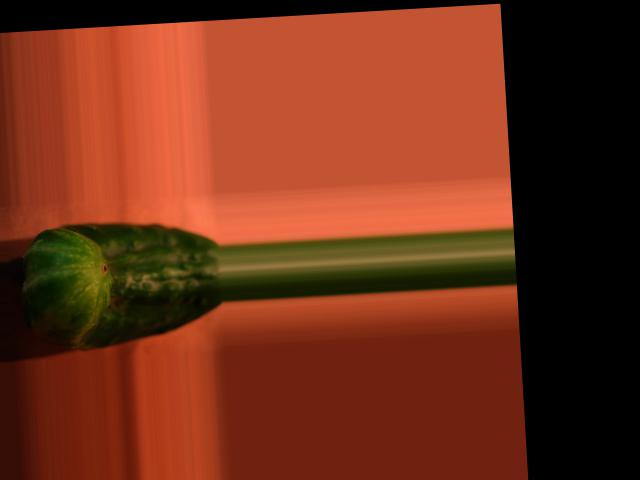cucumber: (18, 215, 225, 352)
